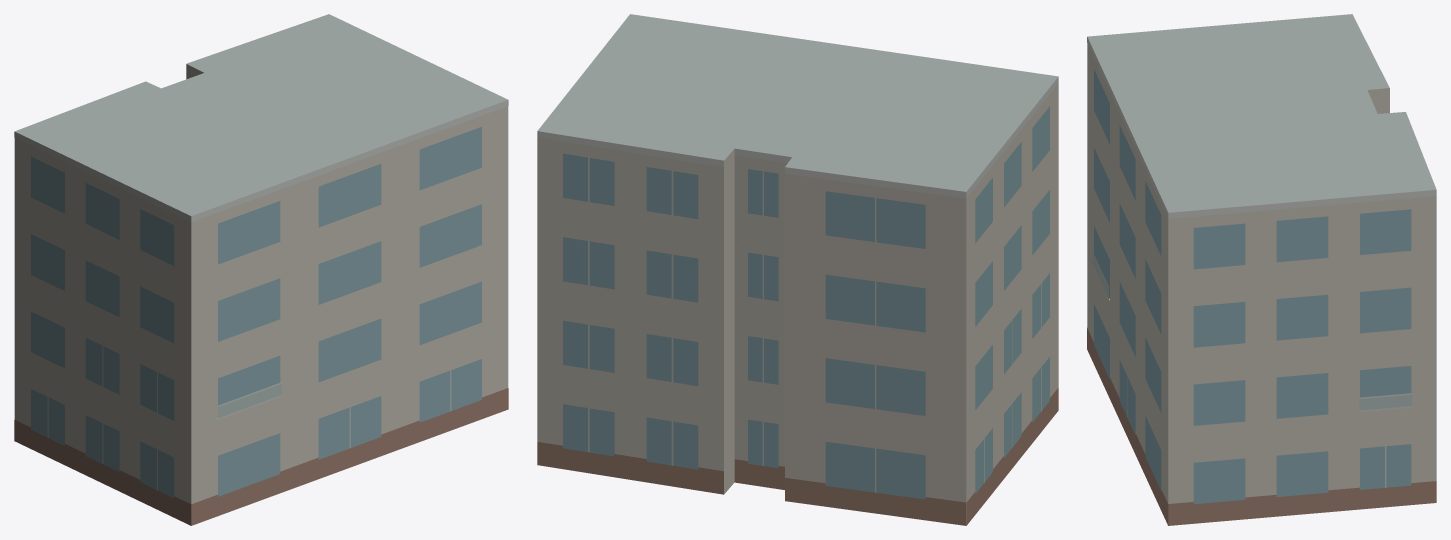
Rendered from survey-upis-32931005.glb.
3 views of the same model, side by side, from view 1: azimuth 30°, elevation 25°; view 2: azimuth 150°, elevation 25°; view 3: azimuth 270°, elevation 25° (orthographic). The views are drawn at different scales.
Parts seen in each view (by area): view 1: survey-upis-32931005.tmp; view 2: survey-upis-32931005.tmp; view 3: survey-upis-32931005.tmp.
Boxes of the visible parts, <box> form: survey-upis-32931005.tmp: <box>14,14,508,525</box>; survey-upis-32931005.tmp: <box>537,14,1058,525</box>; survey-upis-32931005.tmp: <box>1087,14,1436,525</box>.
Size of the model in its own units: 16.89 by 12.4 by 12.55.
